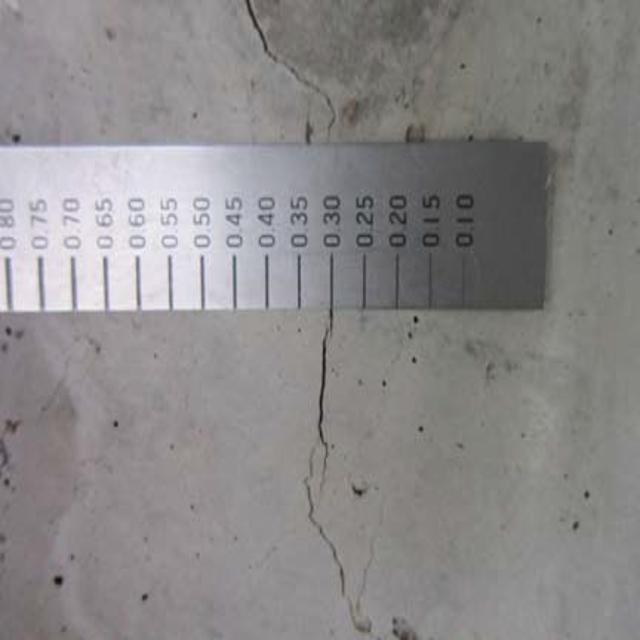crack: (296, 308, 390, 638), (240, 8, 341, 148)
